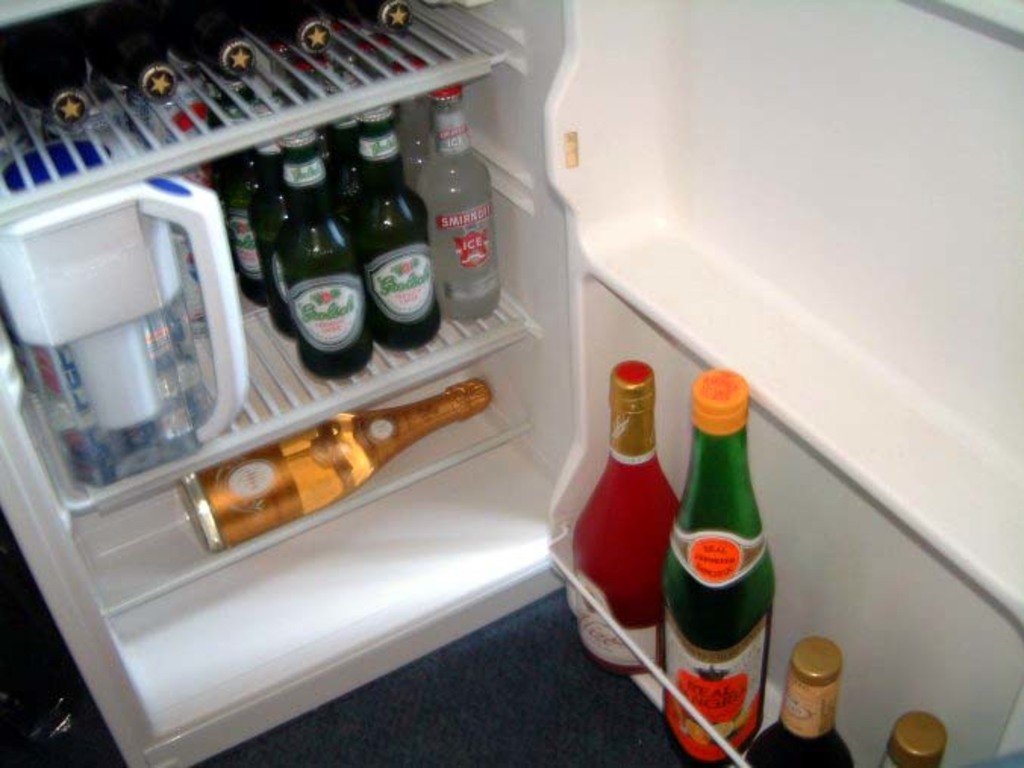refrigerator door: (594, 32, 1024, 762)
